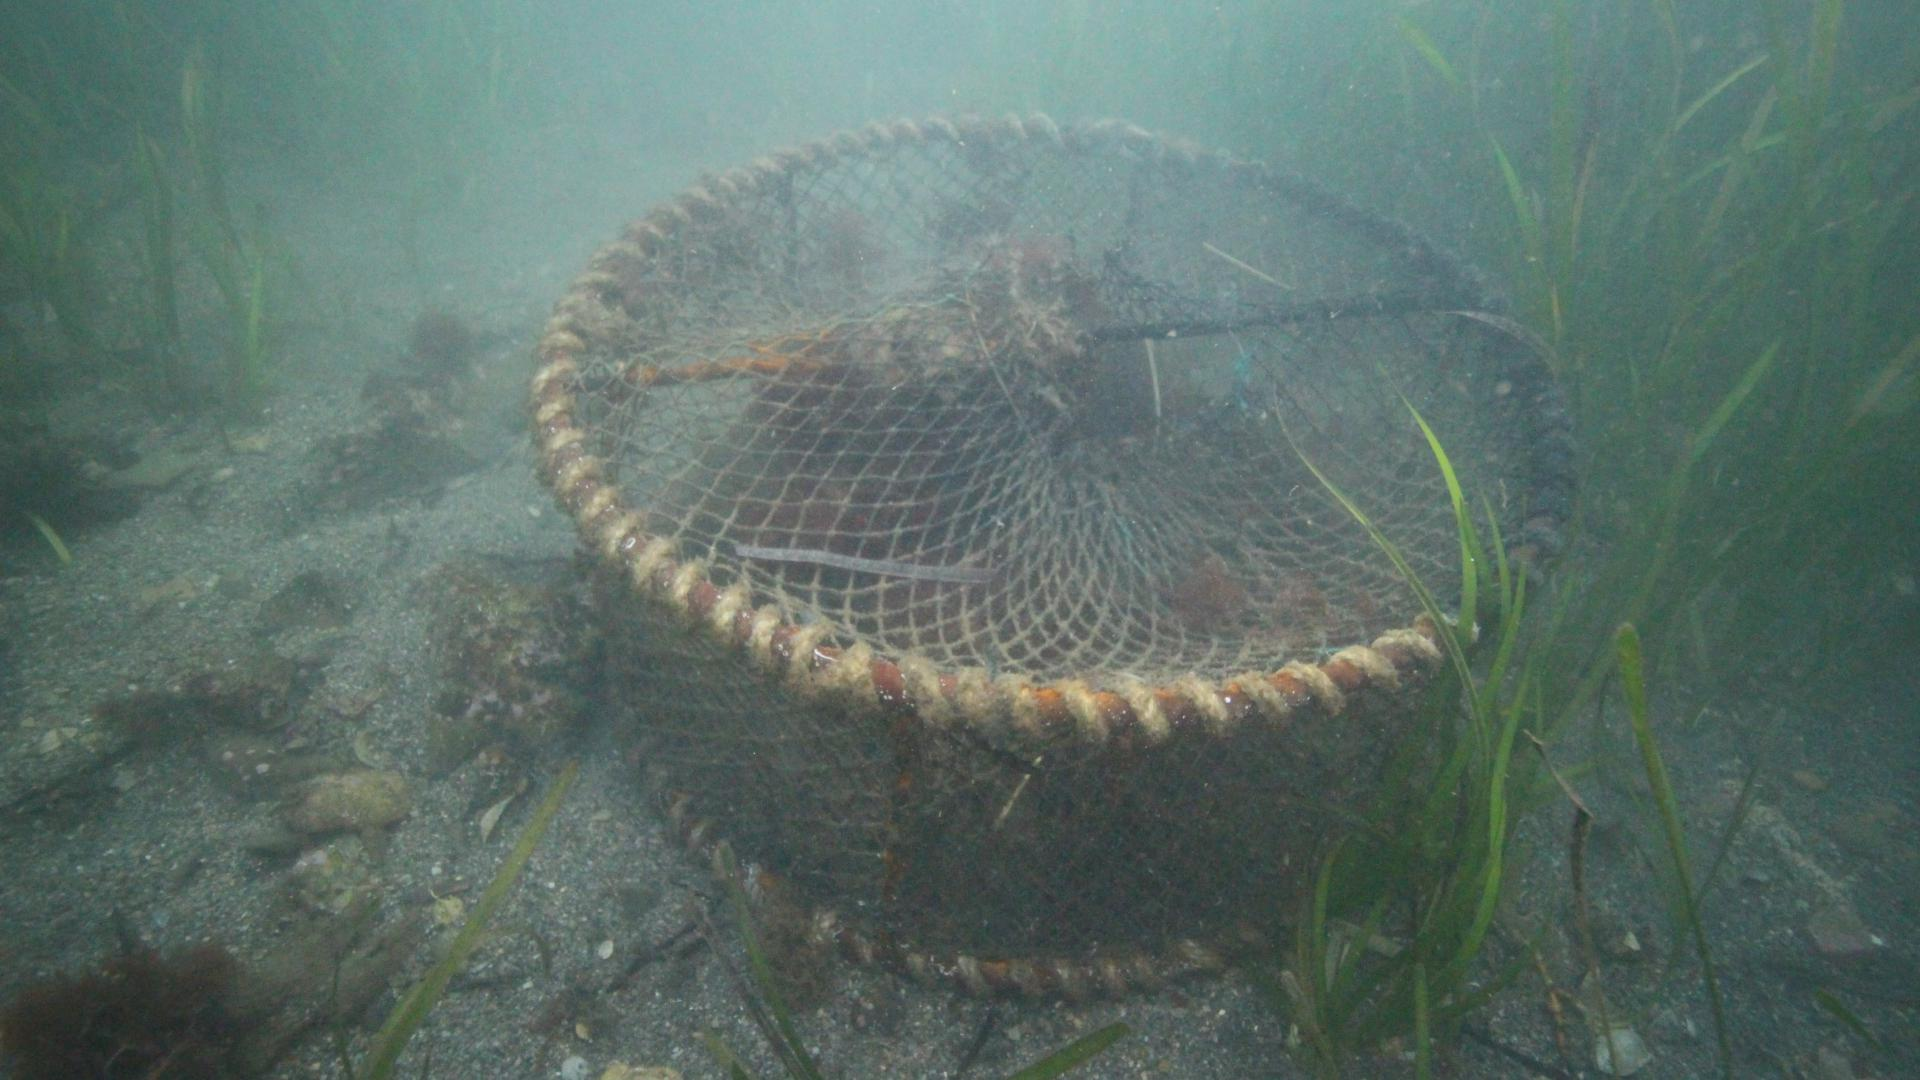circular fish trap: (524, 107, 1573, 1004)
